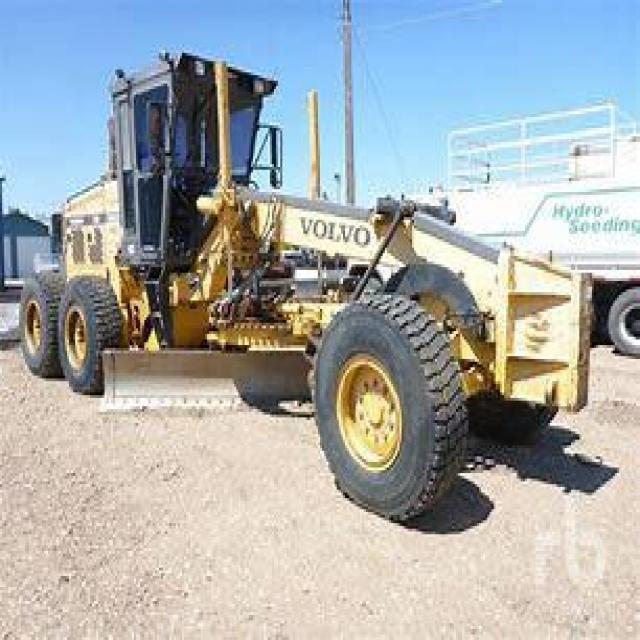Grader: (17, 39, 569, 529)
